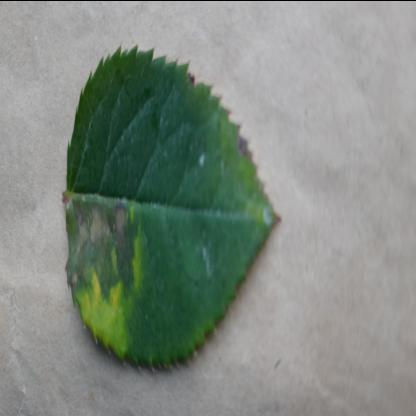powdery-mildew: (62, 36, 279, 364)
